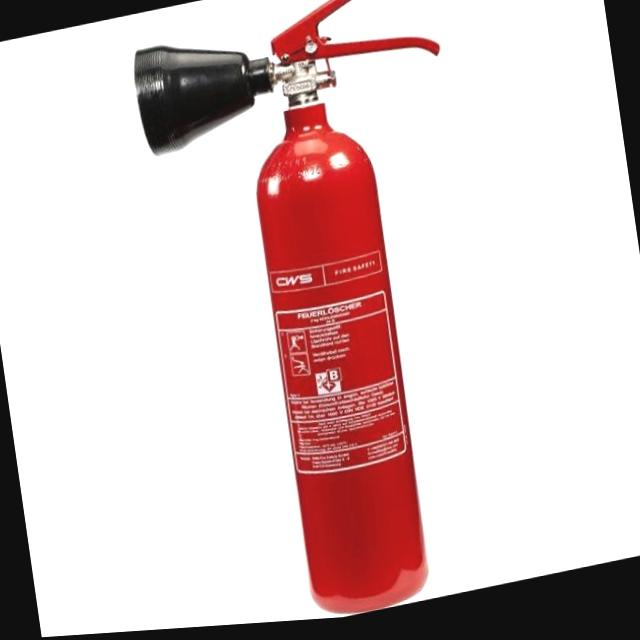FireExtinguisher: (117, 0, 520, 634)
